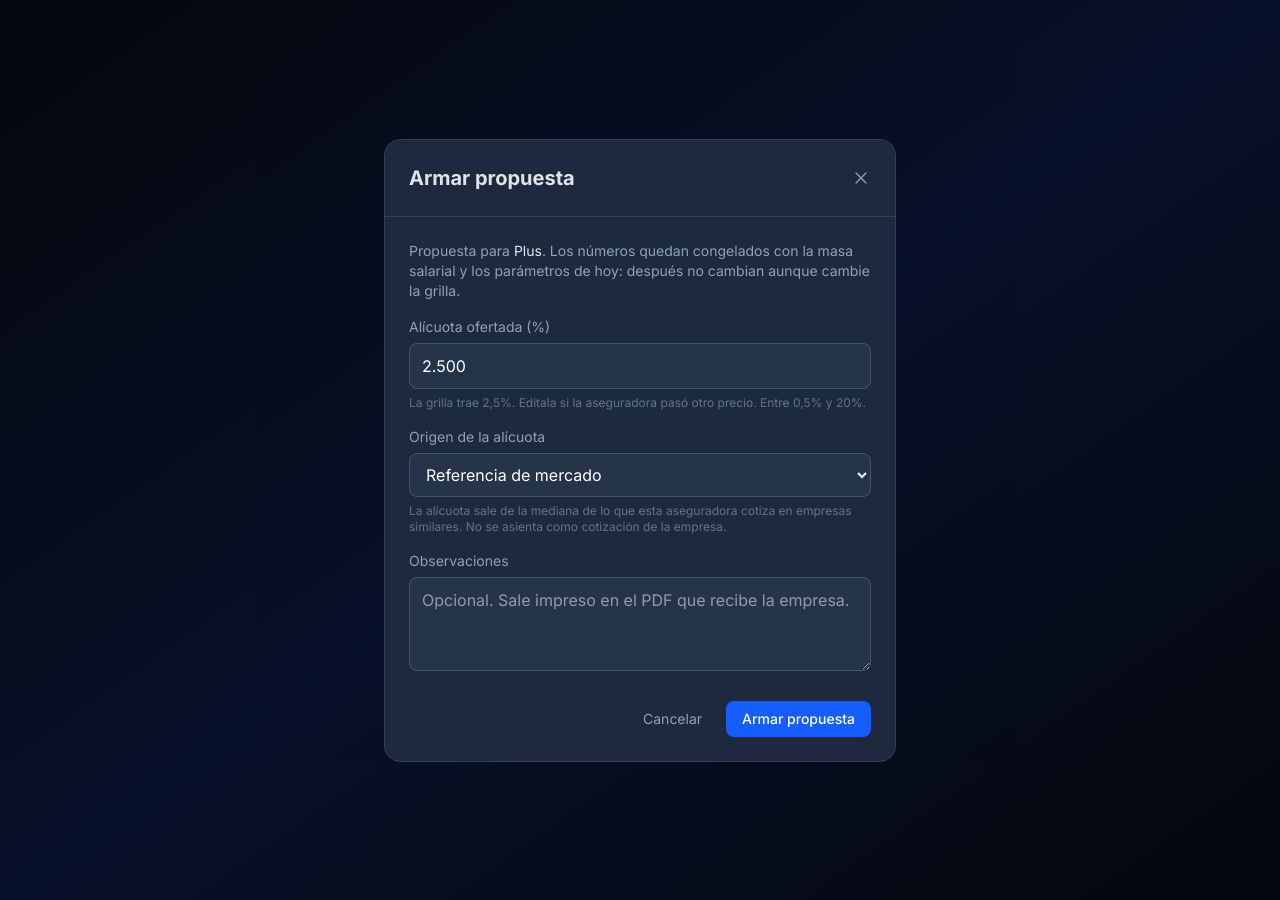
Test: ArtPropuestaForm › el 409 de la empresa sin masa salarial se muestra tal cual
The image size is (1280, 900).
Step 1. Click the button "Armar propuesta" → (799, 718), box [726,700,871,736]
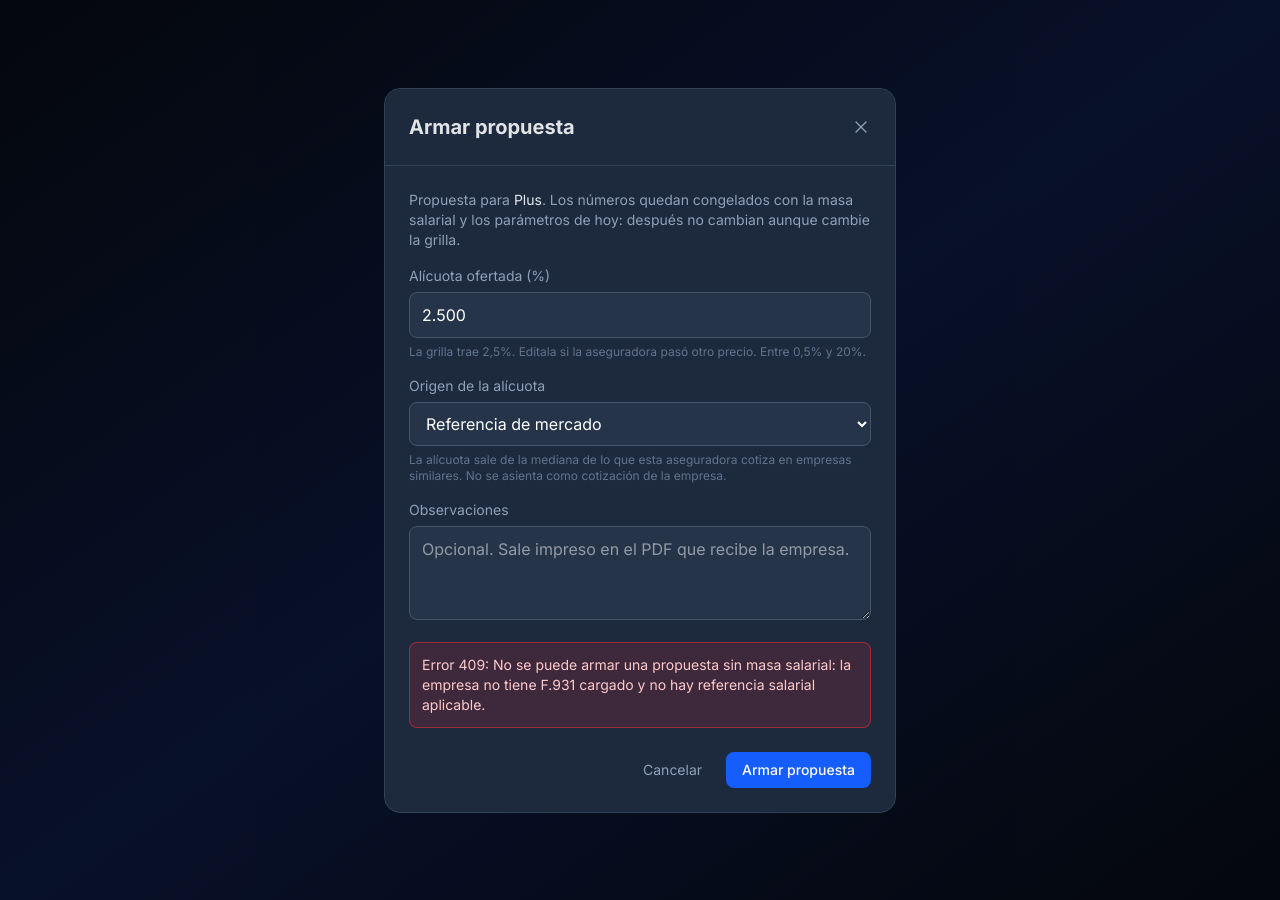
Check: the text "sin masa salarial" is shown, box [422,656,851,712]
